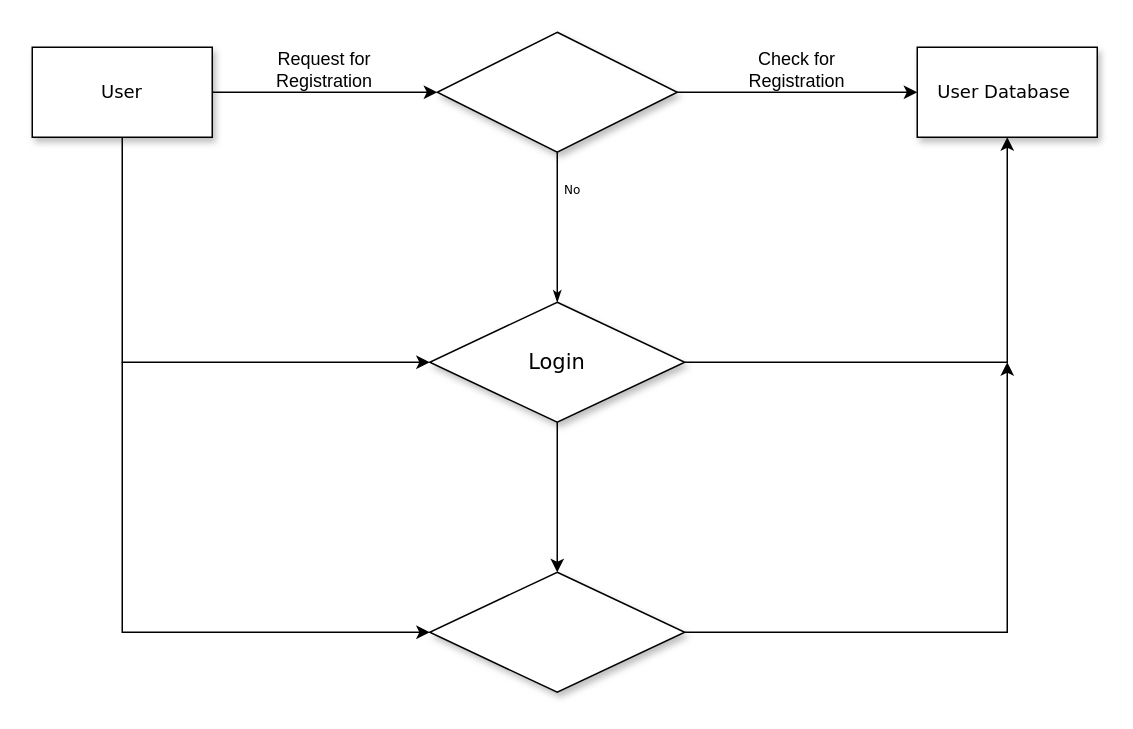
Image size: 1133x729. Some labels were removed from this diagram. Each missing label, with the centre of its shape:
Forgot Password: point (558, 634)
Registration/SignUp: point (558, 94)
